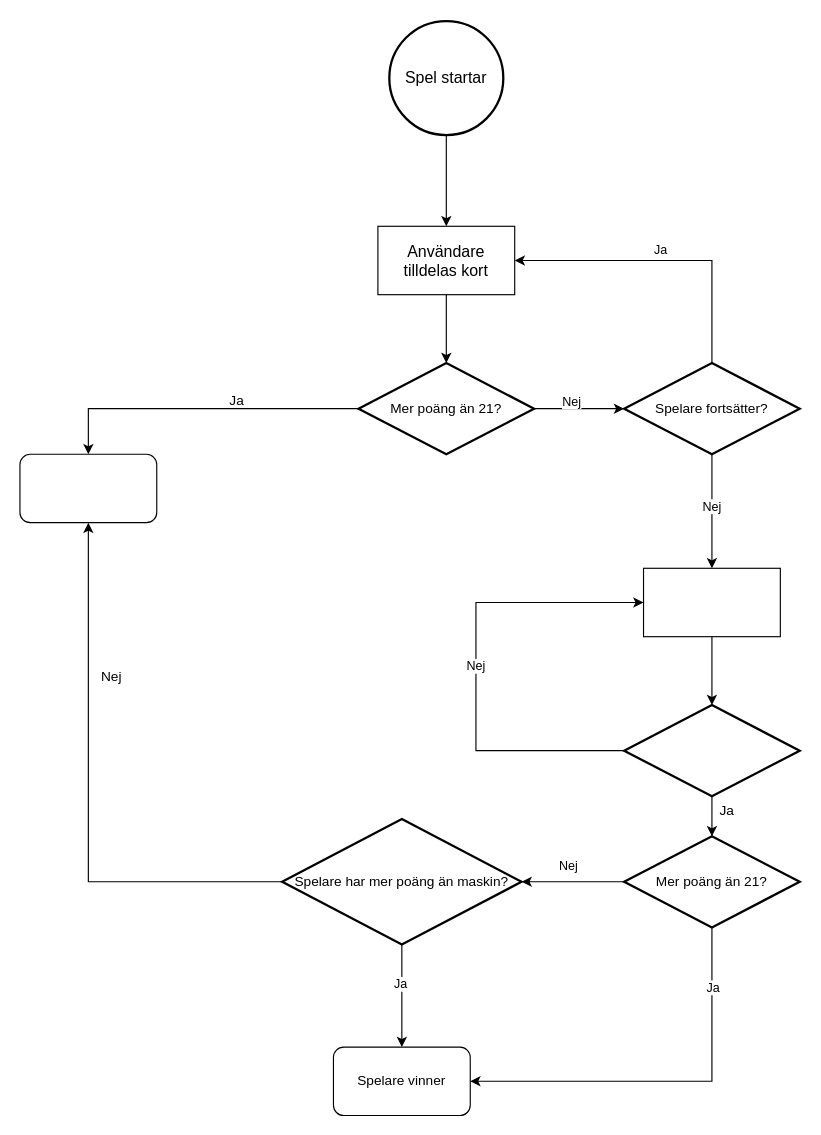
This 821x1135 diagram has some shape labels left out. The shapes that lost their labels are listed below. From the top down, each one's centre as x and y in pixels, then its label:
the point at 88,488: Maskin vinner
the point at 711,602: Maskin tilldelas kort
the point at 711,750: Mer poäng än 16?
